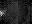person: (1, 10, 6, 16)
